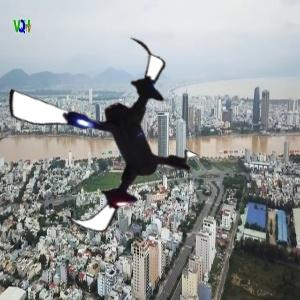drone: (2, 32, 209, 239)
